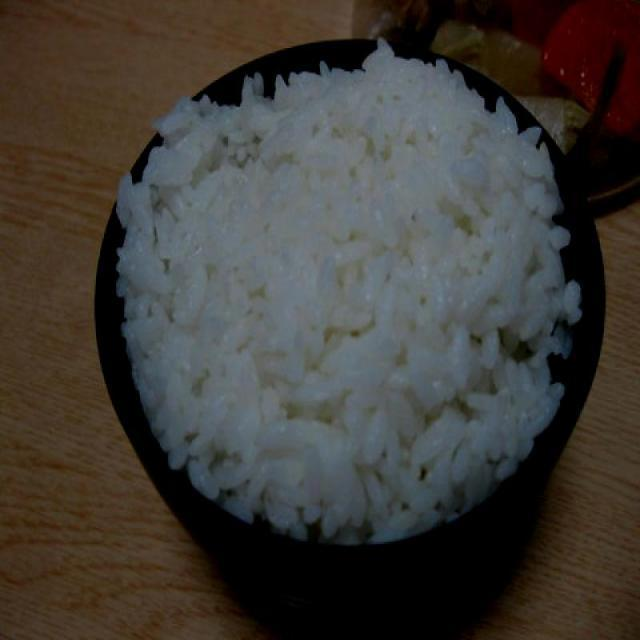Chicken -Chicken Inasal-: (117, 44, 579, 536)
